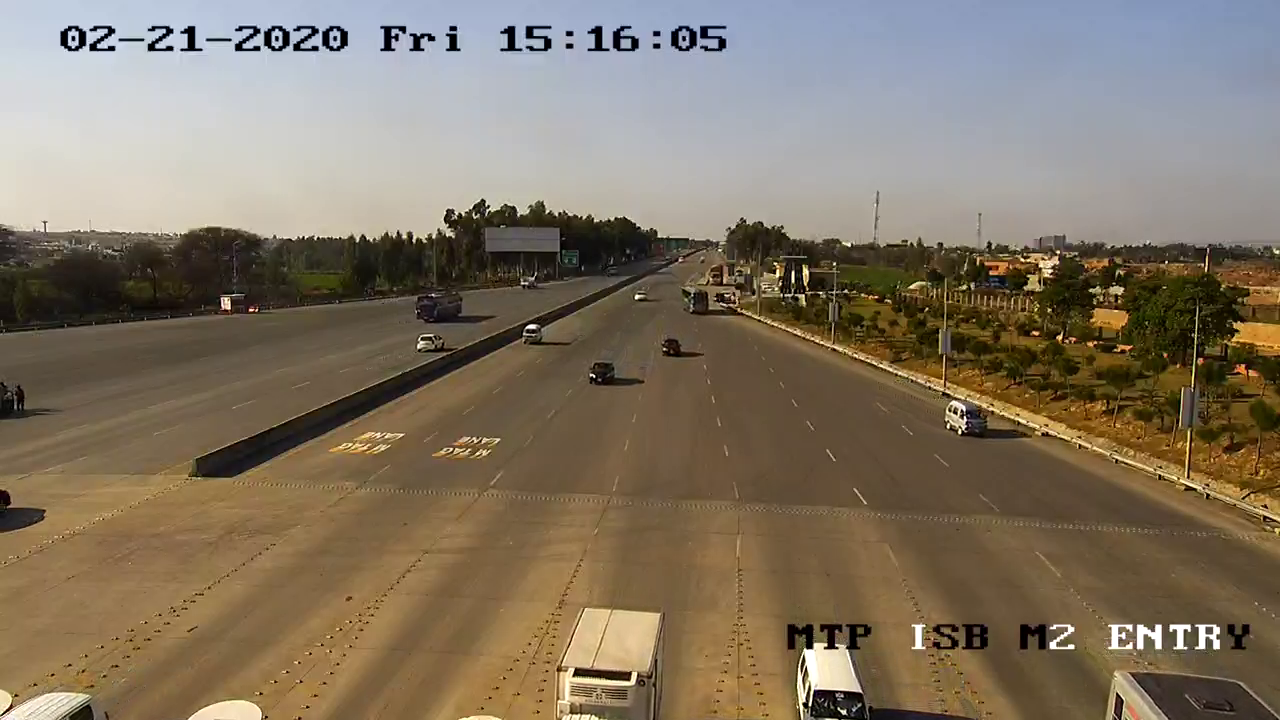f1: (933, 389, 999, 440), (583, 353, 623, 393)
